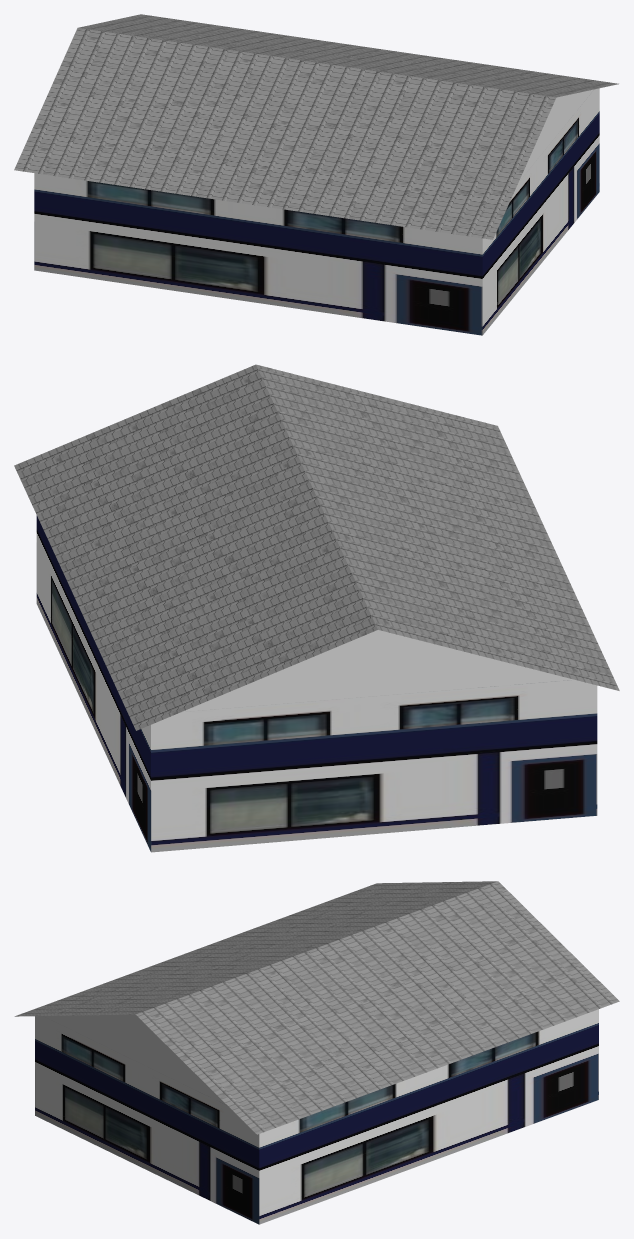
3 renders of one model, top to bottom at view 1: azimuth 30°, elevation 25°; view 2: azimuth 150°, elevation 25°; view 3: azimuth 270°, elevation 25°, orthographic. The views are drawn at different scales.
Visible parts, largest first — view 1: CityEngineMaterial_4_m, CityEngineMaterial_2_m, CityEngineMaterial_3_m; view 2: CityEngineMaterial_4_m, CityEngineMaterial_2_m, CityEngineMaterial_3_m; view 3: CityEngineMaterial_4_m, CityEngineMaterial_2_m, CityEngineMaterial_3_m.
Part boxes in pixels (bbox=[...]): CityEngineMaterial_4_m: bbox=[14, 14, 618, 239]; CityEngineMaterial_2_m: bbox=[34, 88, 599, 335]; CityEngineMaterial_3_m: bbox=[519, 89, 593, 181]; CityEngineMaterial_4_m: bbox=[14, 364, 619, 730]; CityEngineMaterial_2_m: bbox=[36, 515, 597, 852]; CityEngineMaterial_3_m: bbox=[182, 630, 574, 711]; CityEngineMaterial_4_m: bbox=[14, 881, 619, 1134]; CityEngineMaterial_2_m: bbox=[35, 1009, 598, 1224]; CityEngineMaterial_3_m: bbox=[43, 1014, 227, 1105].
Size of the model in its own units: 38.74 by 11.49 by 39.45.
